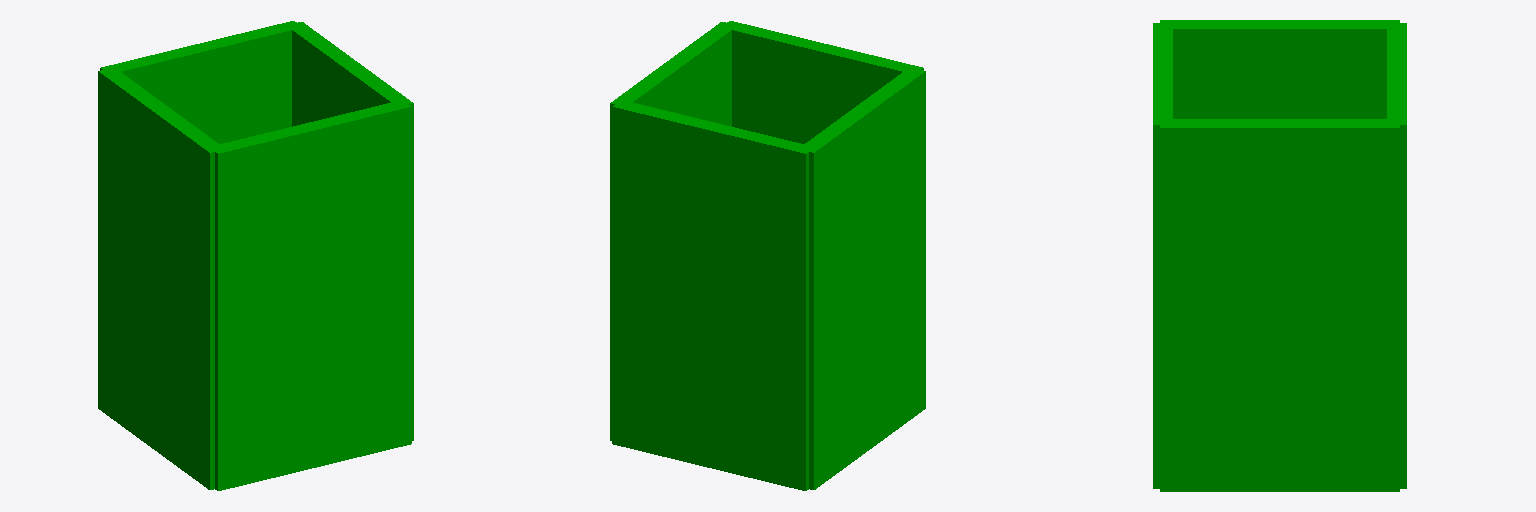
URDF robot description (green_box.urdf):
<?xml version="1.0"?>
<robot name="green_box.urdf">
  <material name="green">
    <color rgba="0 0.7 0 1"/>
  </material>
  <link name="bottom">
    <visual>
      <origin xyz="0 0 -0.1"/>
      <geometry>
        <box size="0.3 0.3 0.1"/>
      </geometry>
      <material name="green"/>
    </visual>
    <collision>
      <origin xyz="0 0 -0.15"/>
      <geometry>
        <box size="0.3 0.3 0.1"/>
      </geometry>
    </collision>
    <inertial>
      <mass value="0.2"/>
      <inertia ixx="1.0" iyy="1.0" izz="1.0" ixy="0" ixz="0" iyz="0"/>
    </inertial>
  </link>
  <link name="edge_nx">
    <visual>
      <geometry>
        <box size="0.025 0.3 0.5"/>
      </geometry>
      <material name="green"/>
    </visual>
    <collision>
      <geometry>
        <box size="0.025 0.3 0.5"/>
      </geometry>
    </collision>
    <inertial>
      <mass value="0.2"/>
      <inertia ixx="1.0" iyy="1.0" izz="1.0" ixy="0" ixz="0" iyz="0"/>
    </inertial>
  </link>
  <link name="edge_px">
    <visual>
      <geometry>
        <box size="0.025 0.3 0.5"/>
      </geometry>
      <material name="green"/>
    </visual>
    <collision>
      <geometry>
        <box size="0.025 0.3 0.5"/>
      </geometry>
    </collision>
    <inertial>
      <mass value="0.2"/>
      <inertia ixx="1.0" iyy="1.0" izz="1.0" ixy="0" ixz="0" iyz="0"/>
    </inertial>
  </link>
  <link name="edge_ny">
    <visual>
      <geometry>
        <box size="0.3 0.025 0.5"/>
      </geometry>
      <material name="green"/>
    </visual>
    <collision>
      <geometry>
        <box size="0.3 0.025 0.5"/>
      </geometry>
    </collision>
    <inertial>
      <mass value="0.2"/>
      <inertia ixx="1.0" iyy="1.0" izz="1.0" ixy="0" ixz="0" iyz="0"/>
    </inertial>
  </link>
  <link name="edge_py">
    <visual>
      <geometry>
        <box size="0.3 0.025 0.5"/>
      </geometry>
      <material name="green"/>
    </visual>
    <collision>
      <geometry>
        <box size="0.3 0.025 0.5"/>
      </geometry>
    </collision>
    <inertial>
      <mass value="0.2"/>
      <inertia ixx="1.0" iyy="1.0" izz="1.0" ixy="0" ixz="0" iyz="0"/>
    </inertial>
  </link>

  <joint name="edge_joint_nx" type="fixed">
    <origin xyz="-0.1455 0 0"/>
    <parent link="bottom"/>
    <child link="edge_nx"/>
  </joint>
  <joint name="edge_joint_px" type="fixed">
    <origin xyz="0.1455 0 0"/>
    <parent link="bottom"/>
    <child link="edge_px"/>
  </joint>
  <joint name="edge_joint_ny" type="fixed">
    <origin xyz="0 -0.1455 0"/>
    <parent link="bottom"/>
    <child link="edge_ny"/>
  </joint>
  <joint name="edge_joint_py" type="fixed">
    <origin xyz="0 0.1455 0"/>
    <parent link="bottom"/>
    <child link="edge_py"/>
  </joint>
</robot>

--- Facts derived from the render (not from the file) ---
3 views of the same robot in one strip: view 1: azimuth 30°, elevation 25°; view 2: azimuth 150°, elevation 25°; view 3: azimuth 270°, elevation 25° (orthographic).
Model green_box.urdf with 5 links and 4 joints (4 fixed), rooted at bottom, posed all joints at 0.
Visible links, largest first — view 1: edge_ny, edge_nx, edge_py, edge_px; view 2: edge_py, edge_nx, edge_ny, edge_px; view 3: edge_px, edge_nx, edge_ny, edge_py.
Boxes of the visible links, left/top/right/bottom form: edge_ny: left=215, top=103, right=411, bottom=490; edge_nx: left=98, top=67, right=224, bottom=489; edge_py: left=100, top=21, right=296, bottom=143; edge_px: left=286, top=22, right=413, bottom=440; edge_py: left=612, top=103, right=808, bottom=490; edge_nx: left=799, top=67, right=925, bottom=489; edge_ny: left=726, top=21, right=923, bottom=143; edge_px: left=610, top=22, right=737, bottom=440; edge_px: left=1160, top=119, right=1399, bottom=491; edge_nx: left=1160, top=20, right=1399, bottom=118; edge_ny: left=1153, top=23, right=1172, bottom=488; edge_py: left=1387, top=23, right=1406, bottom=488.
Bounding box of the posed robot: 0.316 × 0.316 × 0.5 m (x, y, z).
Geometry: primitives only (box / cylinder / sphere), no mesh files.
